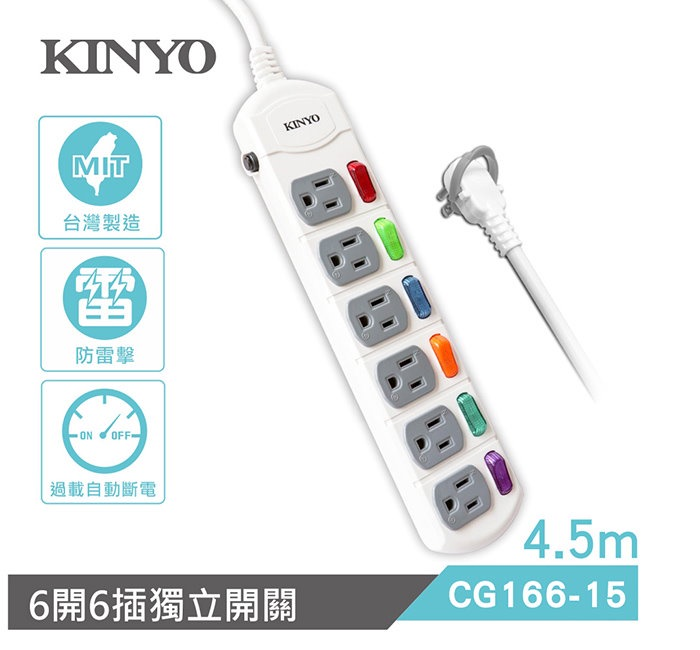socket: (228, 40, 517, 558)
